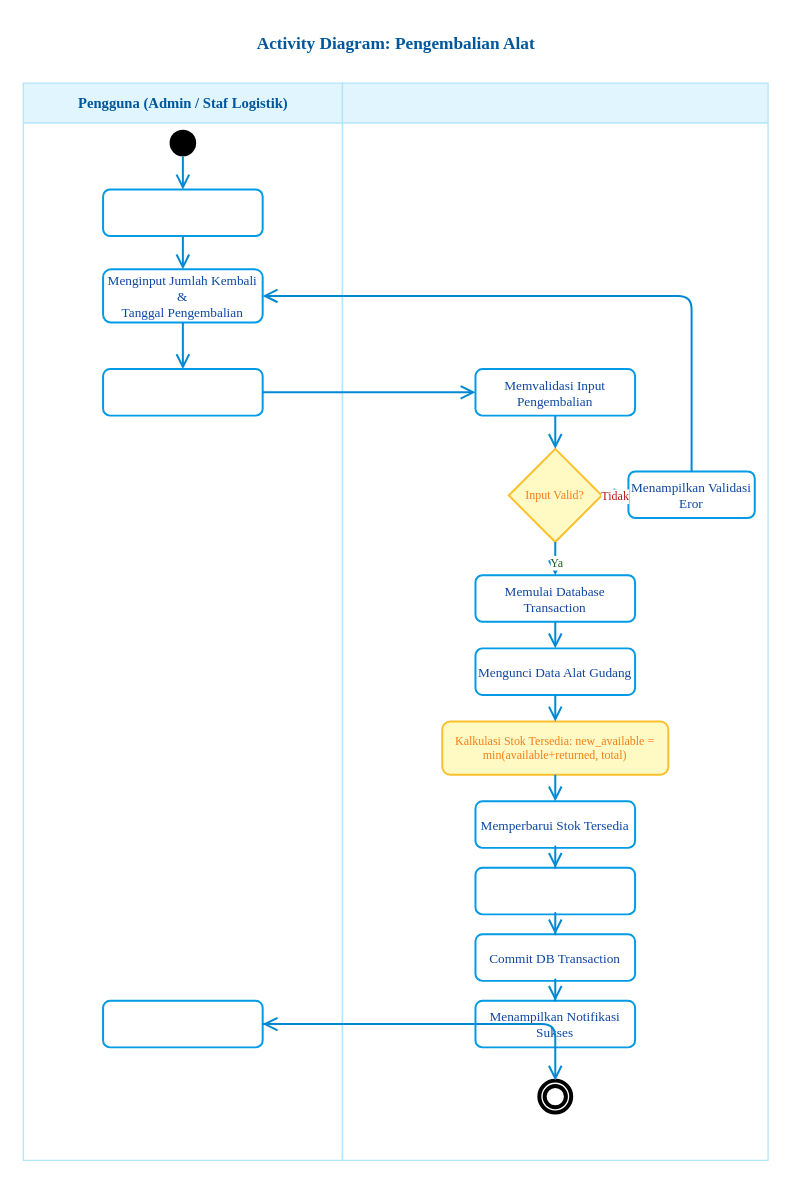
Image size: 791x1184. Some labels were removed from this diagram. Here are the shapes that lost their labels. From the top down, the box of each, then its label:
(101, 188, 263, 236): Memilih Catatan Peminjaman Aktif
(101, 367, 263, 416): Mengklik Simpan Pengembalian
(341, 82, 768, 1160): Sistem (Laravel / Livewire)
(474, 866, 635, 915): Memperbarui Status Log Pinjam
(101, 999, 263, 1048): Menerima Notifikasi Sukses
